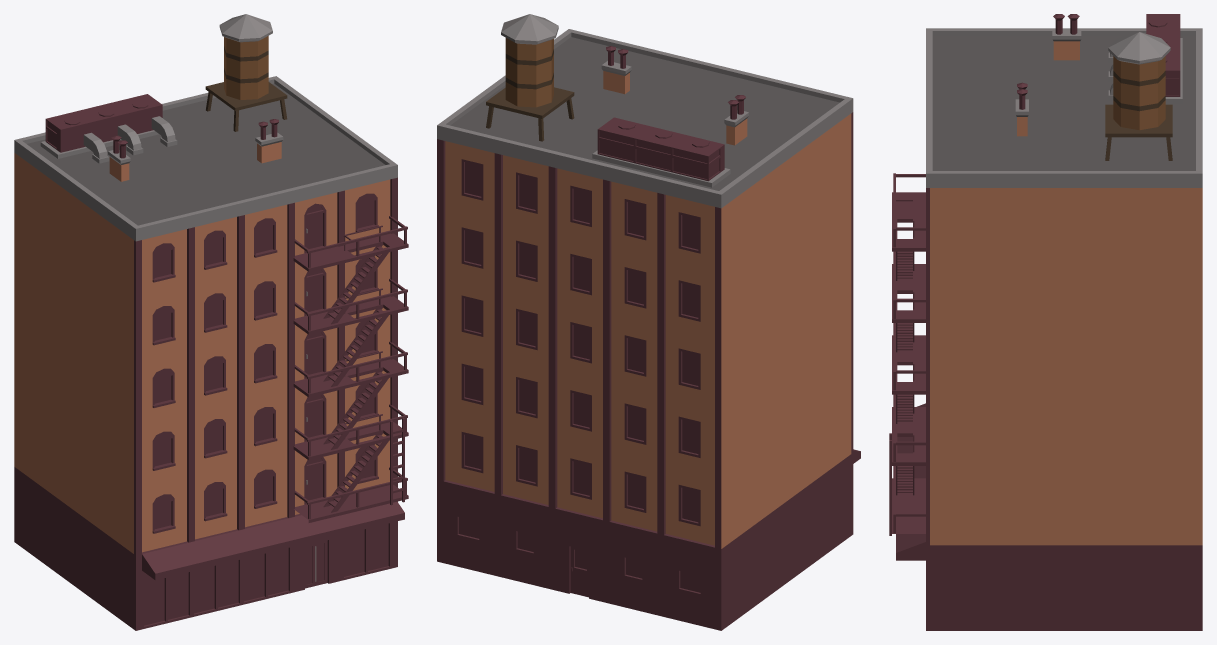
The model's file is building-block-5floor-front.fbx.
3 views of the same model, side by side, from view 1: azimuth 30°, elevation 25°; view 2: azimuth 150°, elevation 25°; view 3: azimuth 270°, elevation 25° (orthographic). The views are drawn at different scales.
Parts seen in each view (by area): view 1: building-block-5floor-front; view 2: building-block-5floor-front; view 3: building-block-5floor-front.
Part boxes in pixels (bbox=[...]): building-block-5floor-front: bbox=[14, 14, 408, 630]; building-block-5floor-front: bbox=[437, 14, 860, 630]; building-block-5floor-front: bbox=[889, 14, 1202, 630].
Bounding box in the file's own units: 13.1 × 23.81 × 11.92.
